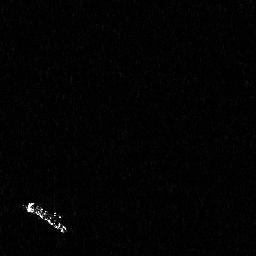ship: (21, 198, 70, 236)
